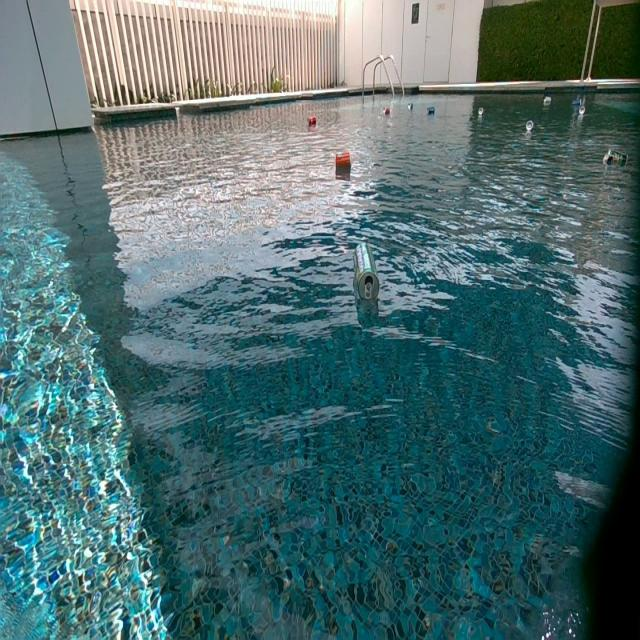Cans: (355, 242, 379, 304), (601, 149, 628, 170), (337, 153, 352, 170), (572, 96, 583, 108), (525, 118, 534, 130), (382, 106, 392, 116), (426, 106, 436, 116), (309, 114, 317, 126), (542, 97, 550, 107), (578, 107, 586, 117), (478, 108, 485, 116), (408, 104, 414, 112)
